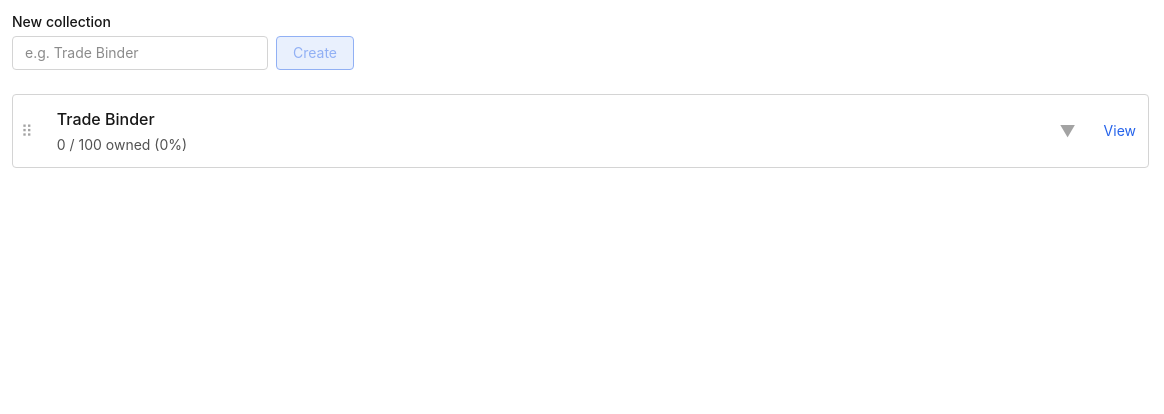
CollectionsList › clicking a row expands it to reveal actions
Check: the button "Set as Default" is not shown
Step 1. Click the text "Trade Binder" → [106, 119], box [57,107,155,131]
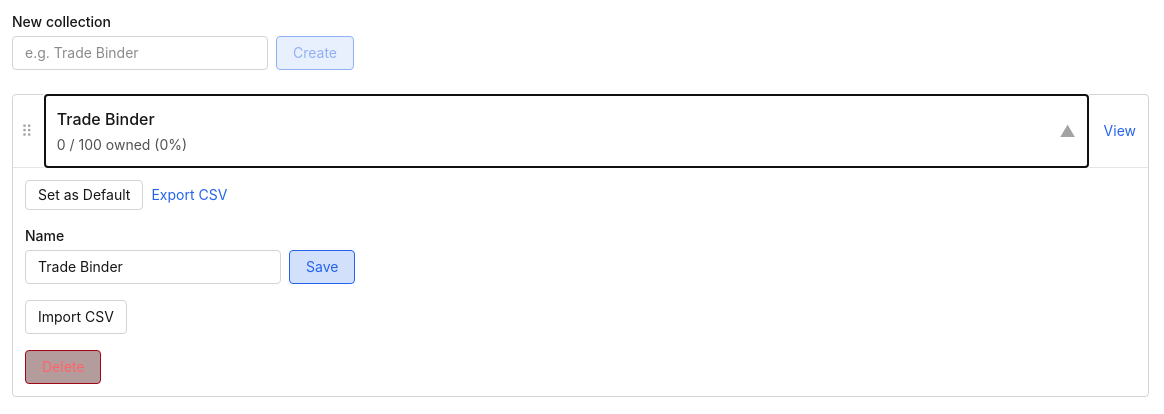
Check: the button "Set as Default" is shown, box [25,180,143,210]
